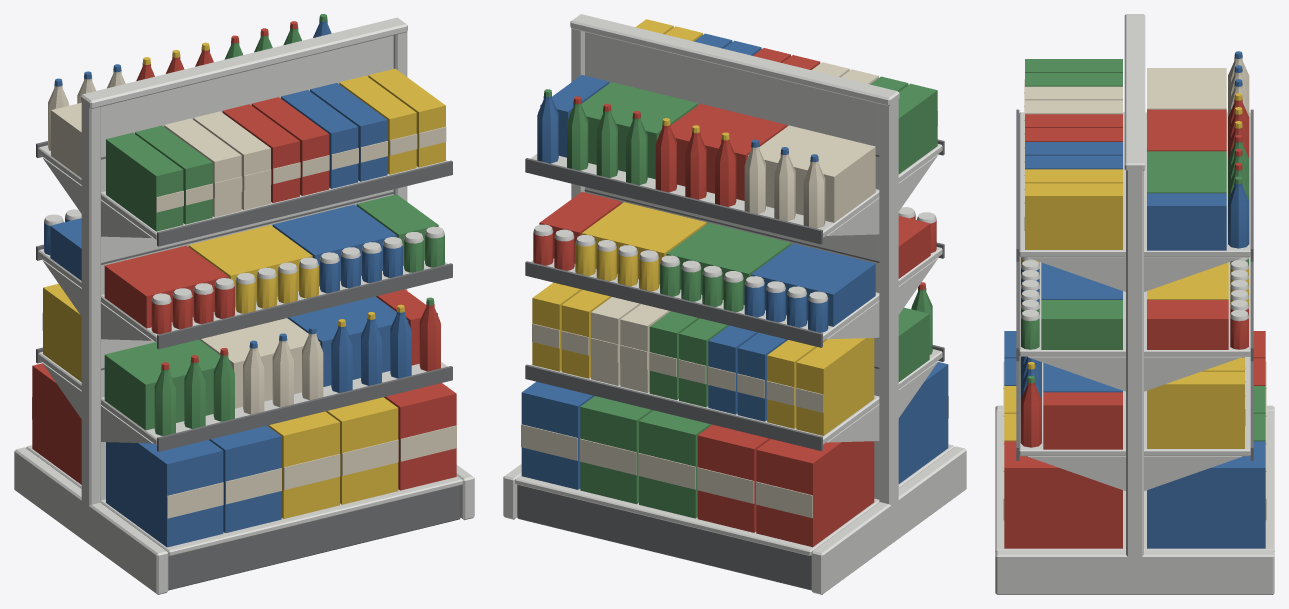
File: ShopShelf.fbx
3 views of the same model, side by side, from view 1: azimuth 30°, elevation 25°; view 2: azimuth 150°, elevation 25°; view 3: azimuth 270°, elevation 25° (orthographic). The views are drawn at different scales.
Visible parts, largest first — view 1: ShopShelf_Mesh; view 2: ShopShelf_Mesh; view 3: ShopShelf_Mesh.
Boxes of the visible parts, box(x1,y1,x2,y2) form: ShopShelf_Mesh: box(14, 14, 474, 594); ShopShelf_Mesh: box(503, 14, 966, 594); ShopShelf_Mesh: box(995, 14, 1274, 594).
Bounding box in the file's own units: 1.2 × 1.61 × 0.94.
